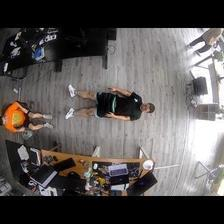fall: (64, 83, 155, 122)
normal: (1, 101, 53, 133), (187, 29, 223, 56)
